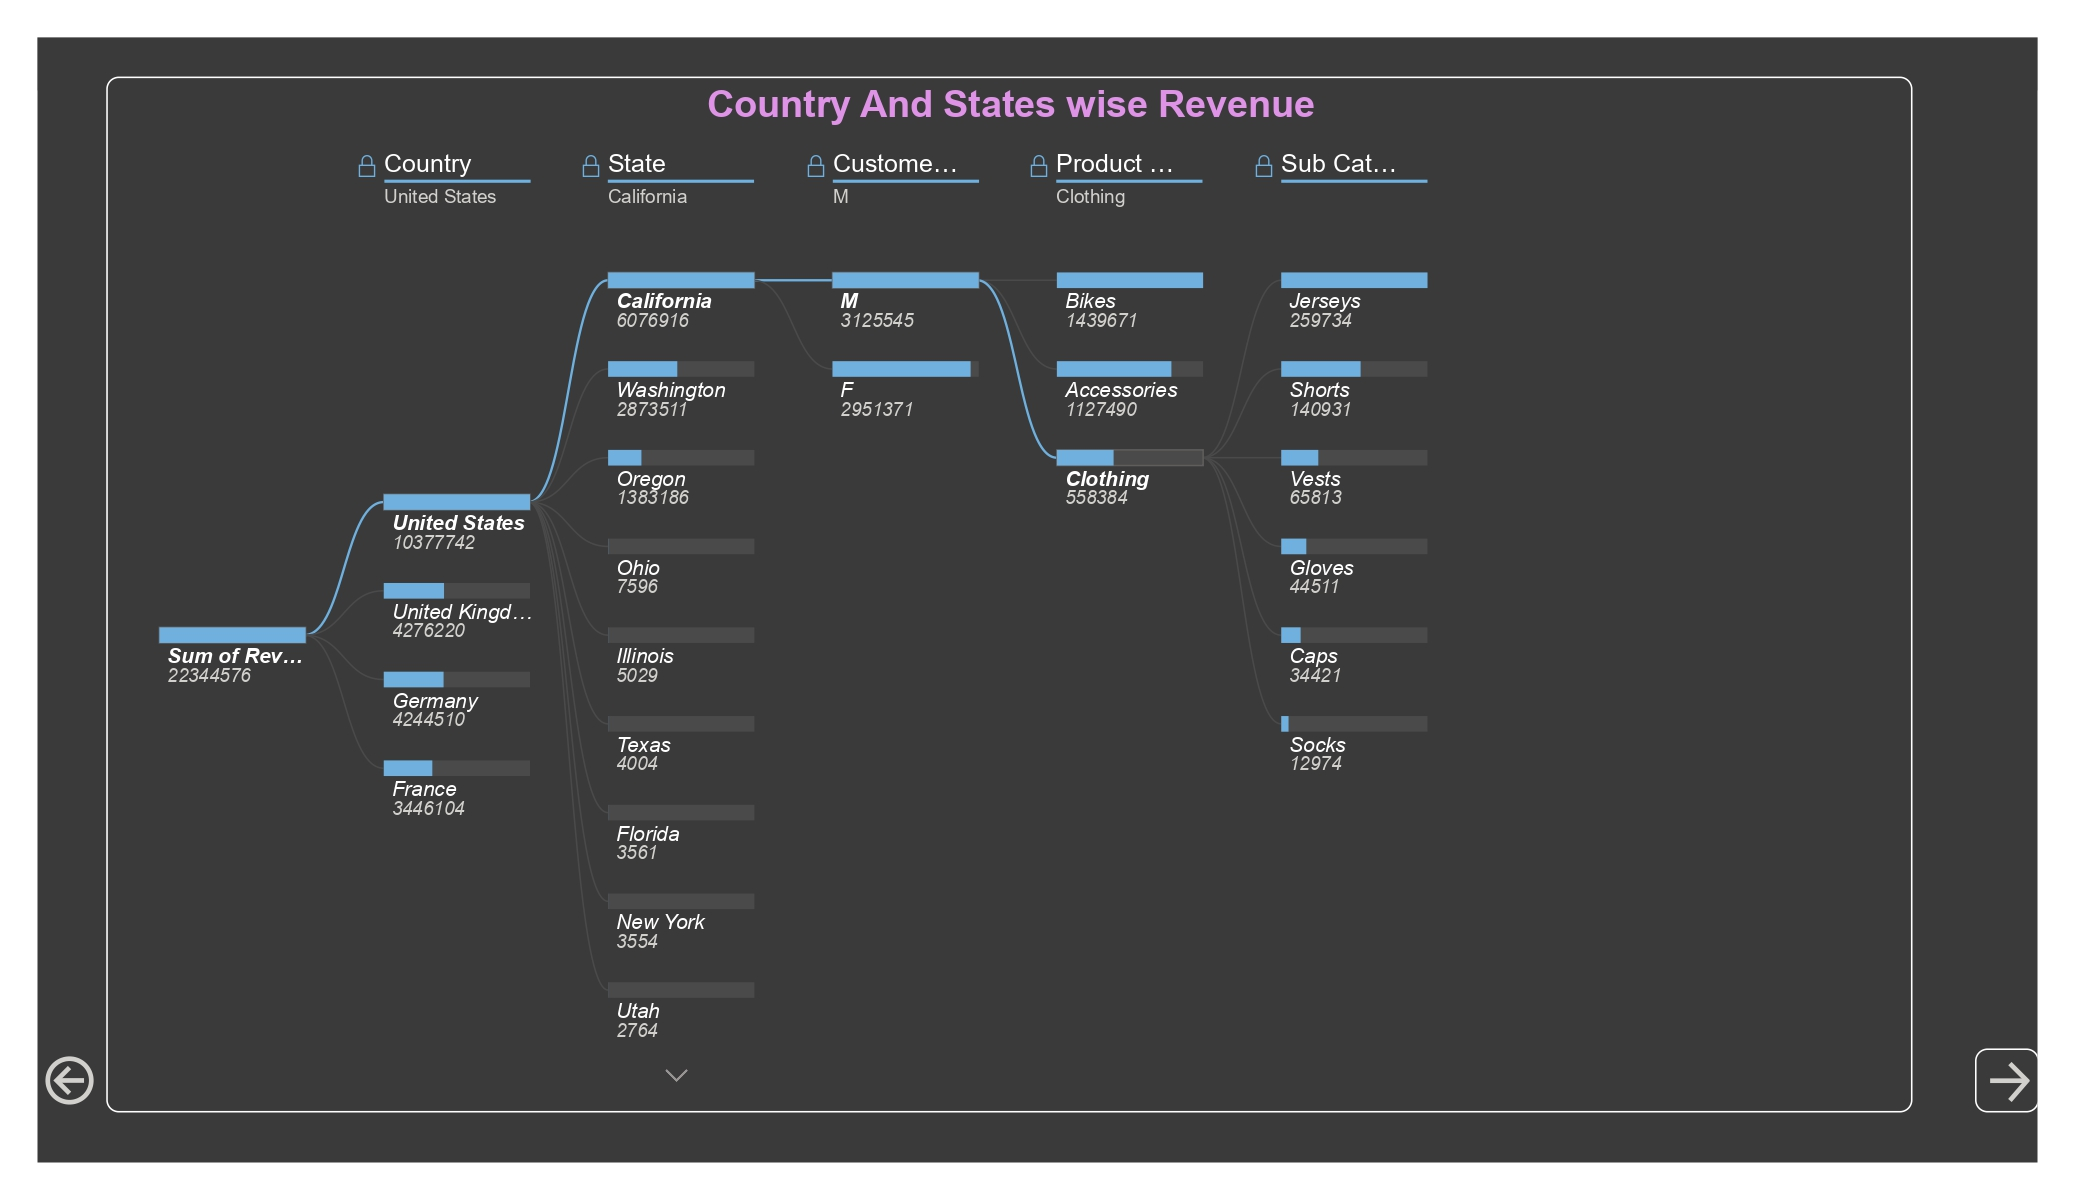

The dashboard page shown, as its layout file describes it:
{"tool":"powerbi","page":{"name":"P3","canvas":[1280,720],"ordinal":2},"visuals":[{"type":"decompositionTreeVisual","title":"Country And States wise Revenue ","fields":{"ExplainBy":["salesforcourse.Country","salesforcourse.State","salesforcourse.Customer Gender","salesforcourse.Product Category","salesforcourse.Sub Category"],"Analyze":["Sum(salesforcourse.Revenue)"]},"box":[44,25,1155.6,662.9],"z":0},{"type":"actionButton","box":[1240.1,647.4,40.5,40.5],"z":1000},{"type":"actionButton","box":[0,647.4,100,40.5],"z":1001}]}

Visuals, with their boxes in screenshot pixels (x1, y1, x2, y2):
"Country And States wise Revenue " decompositionTreeVisual: box(106, 77, 1912, 1112)
actionButton: box(1975, 1049, 2038, 1112)
actionButton: box(38, 1049, 194, 1112)
